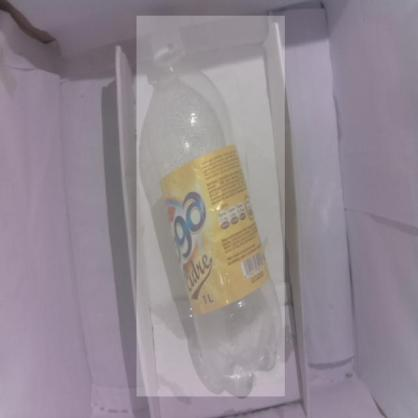bottle: (137, 16, 286, 397)
label: (160, 160, 272, 302)
